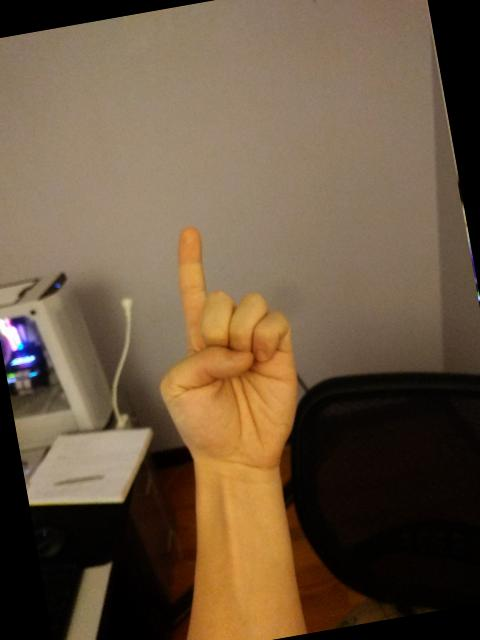D: (128, 208, 320, 497)
